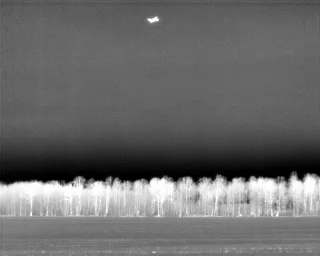DRONE: (143, 12, 164, 28)
